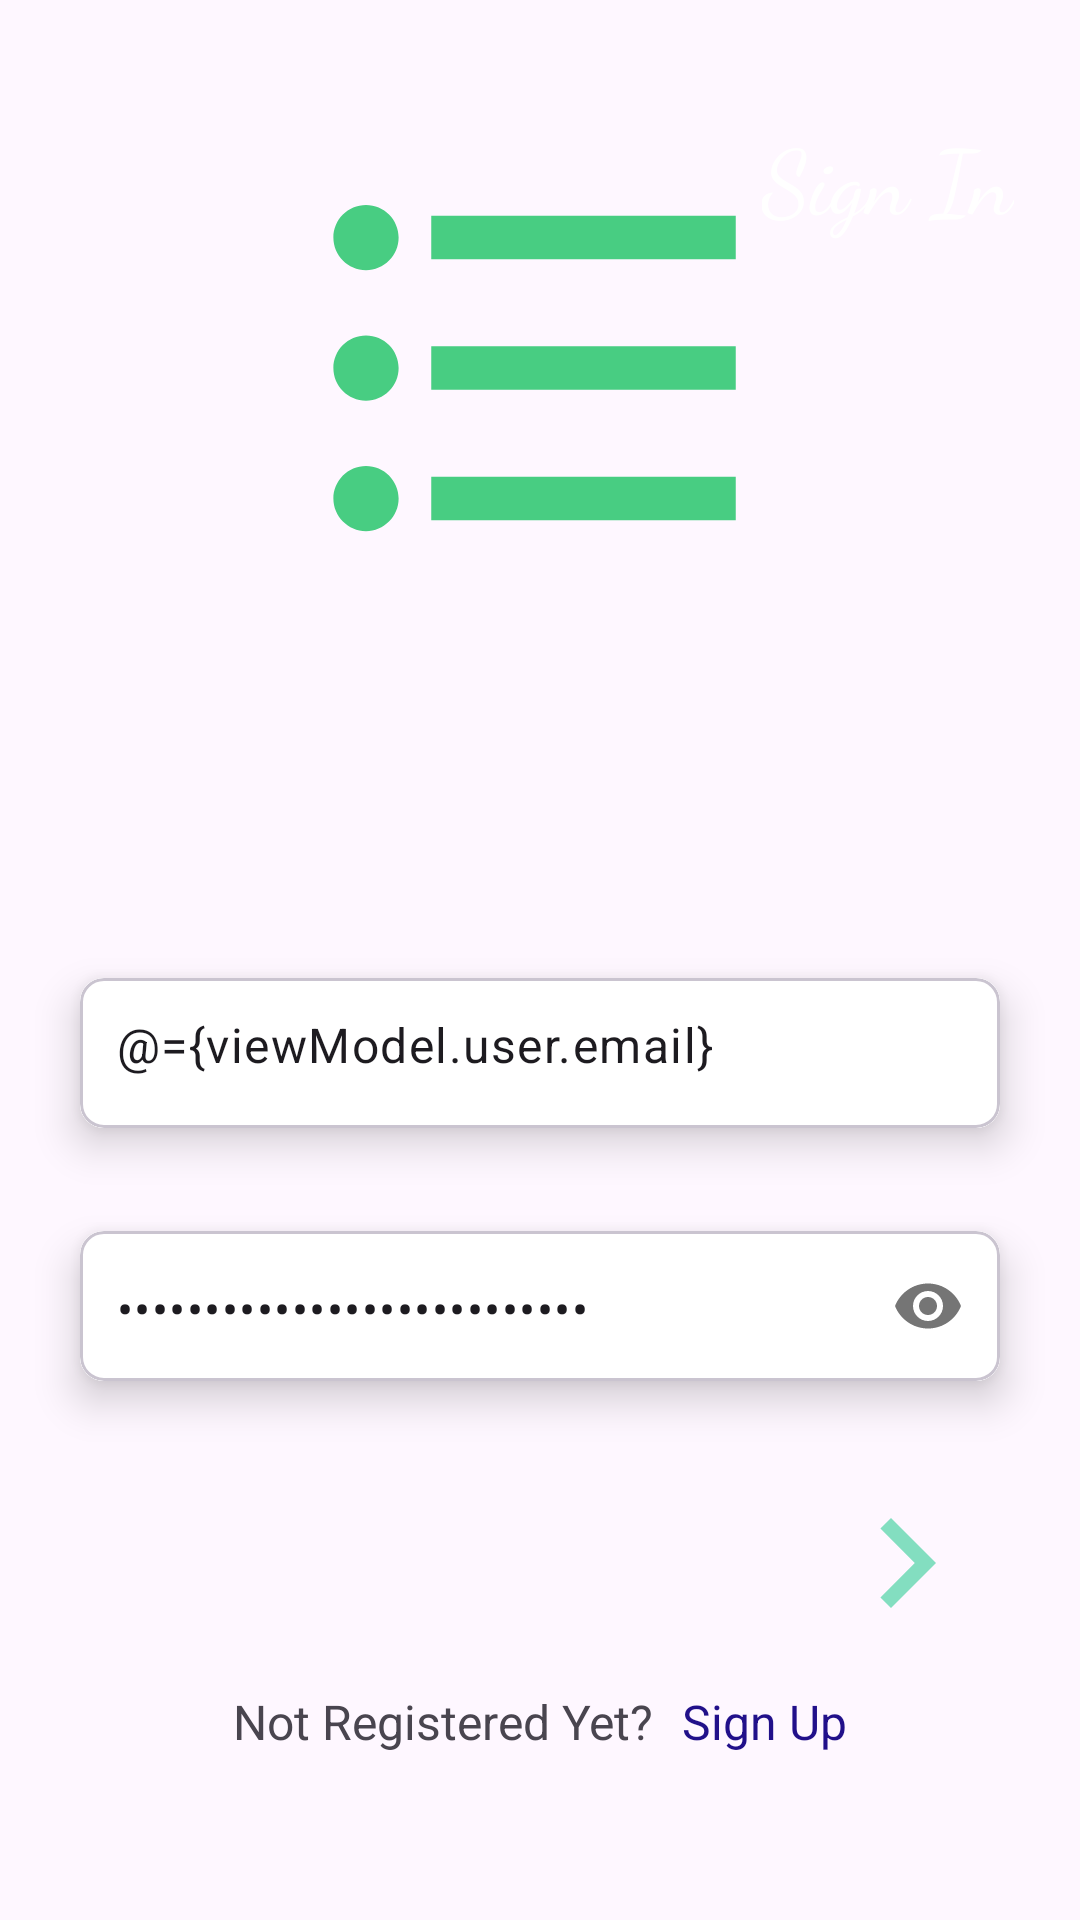

Where icons sit on this 1080px x 1920px app screen, as Rect(x1, y1, x2, y2):
Click to sign in: Rect(880, 1518, 936, 1608)
